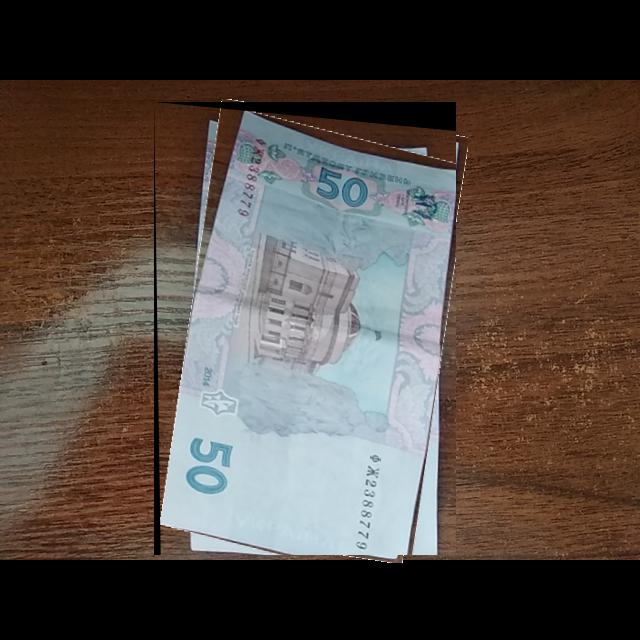50uah: (160, 109, 457, 556)
